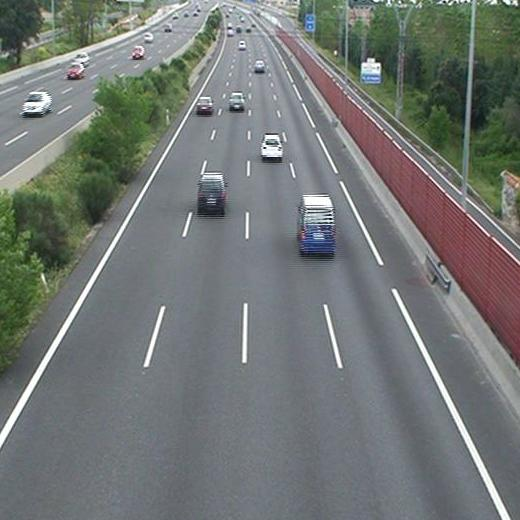car: (198, 173, 226, 211), (262, 135, 283, 157), (230, 92, 245, 109), (197, 98, 212, 113), (254, 61, 264, 71), (238, 41, 245, 49)
van: (298, 195, 335, 254)
